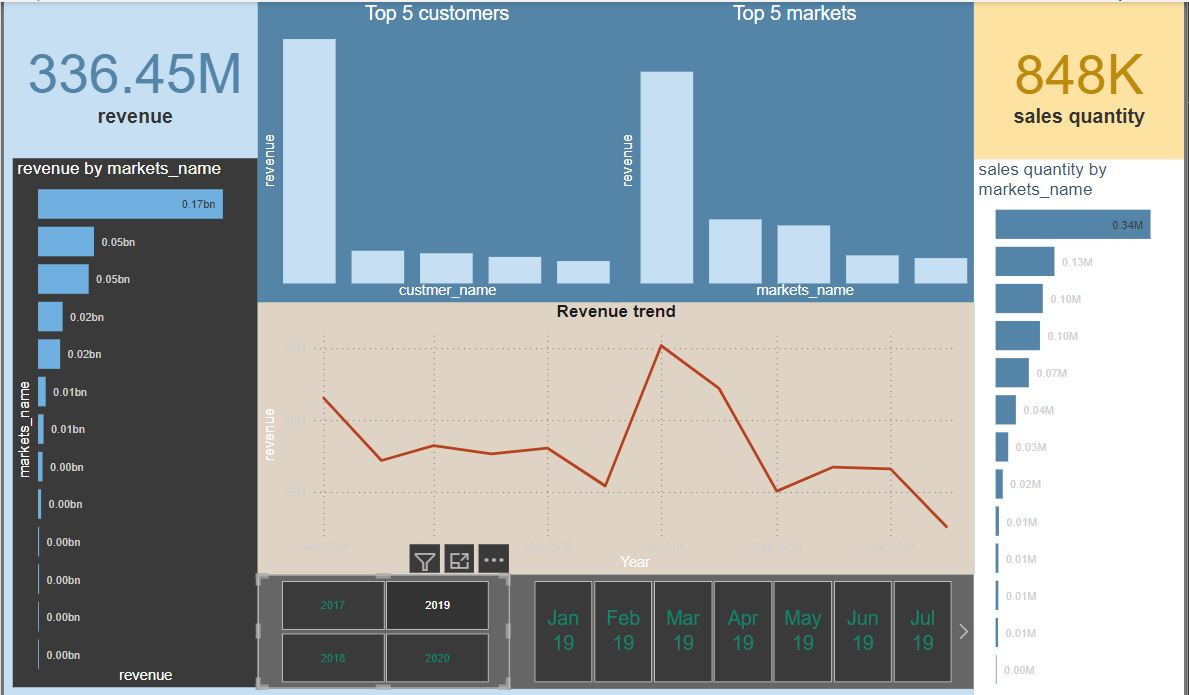

Layout of this report page (visuals, bound fields, positions):
{"tool":"powerbi","page":{"name":"Page 1","canvas":[1280,820],"ordinal":0},"visuals":[{"type":"card","fields":{"Values":["BaseMeasures.revenue"]},"box":[9.6,0,265.8,169.9],"z":0},{"type":"barChart","fields":{"Y":["BaseMeasures.revenue"],"Category":["sales markets.markets_name"]},"box":[9.6,169.9,265.8,574],"z":1000},{"type":"card","fields":{"Values":["BaseMeasures.sales quantity"]},"box":[1052.1,0,228,170.3],"z":2000},{"type":"barChart","fields":{"Y":["BaseMeasures.sales quantity"],"Category":["sales markets.markets_name"]},"box":[1052.1,181.3,228,574.1],"z":3000},{"type":"slicer","fields":{"Values":["sales date.cy_date"]},"box":[549.4,620.8,502.7,123.6],"z":4000},{"type":"slicer","fields":{"Values":["sales date.year"]},"box":[274.7,620.8,274.7,123.6],"z":5000},{"type":"lineChart","title":"Revenue trend","fields":{"Y":["BaseMeasures.revenue"],"Category":["sales date.cy_date.Variation.Date Hierarchy.Year","sales date.cy_date.Variation.Date Hierarchy.Quarter","sales date.cy_date.Variation.Date Hierarchy.Month","sales date.cy_date.Variation.Date Hierarchy.Day"]},"box":[274.7,325.5,777.4,295.3],"z":6000},{"type":"columnChart","title":"Top 5 customers","fields":{"Category":["sales customers.custmer_name"],"Y":["BaseMeasures.revenue"]},"box":[274.7,0,388.7,325.5],"z":7000},{"type":"columnChart","title":"Top 5 markets","fields":{"Category":["sales markets.markets_name"],"Y":["BaseMeasures.revenue"]},"box":[663.4,0,388.7,325.5],"z":8000}]}

Visuals, with their boxes on the page's 1280x820 design canvas (x1, y1, x2, y2). These are canvas units, not pixel positions in the 1189x695 screenshot, which may show the page scaled, cropped or inside an application window:
card - BaseMeasures.revenue: left=10, top=0, right=275, bottom=170
barChart - BaseMeasures.revenue x sales markets.markets_name: left=10, top=170, right=275, bottom=744
card - BaseMeasures.sales quantity: left=1052, top=0, right=1280, bottom=170
barChart - BaseMeasures.sales quantity x sales markets.markets_name: left=1052, top=181, right=1280, bottom=755
slicer - sales date.cy_date: left=549, top=621, right=1052, bottom=744
slicer - sales date.year: left=275, top=621, right=549, bottom=744
"Revenue trend" lineChart: left=275, top=326, right=1052, bottom=621
"Top 5 customers" columnChart: left=275, top=0, right=663, bottom=326
"Top 5 markets" columnChart: left=663, top=0, right=1052, bottom=326
